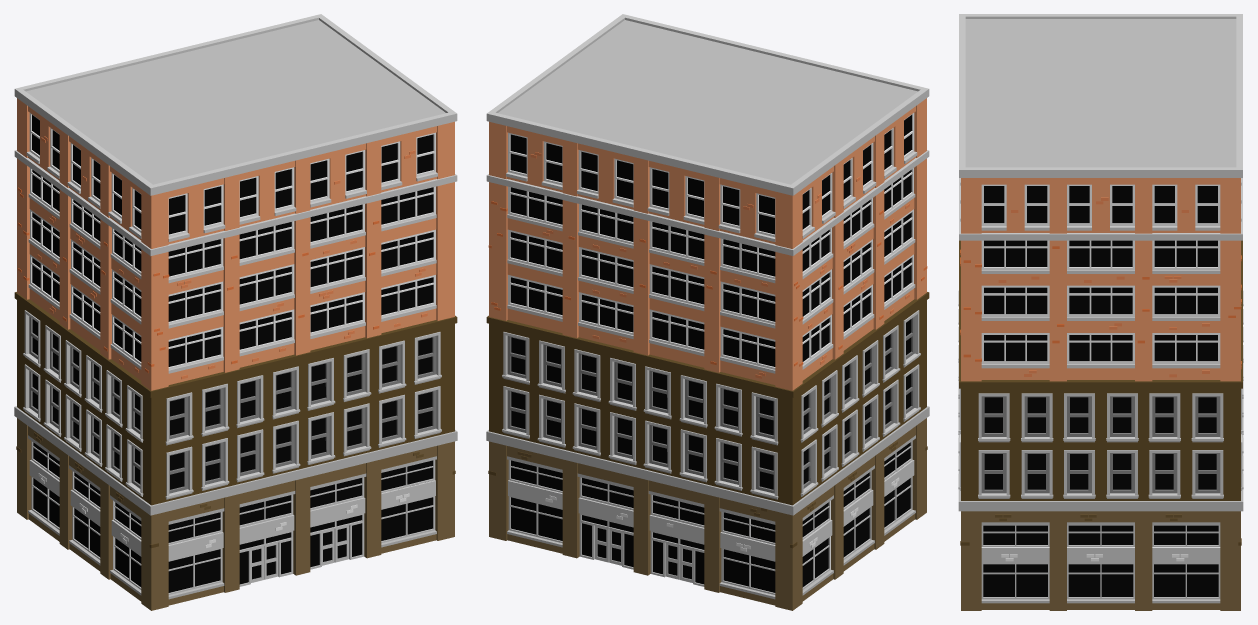
The picture shows the model from 3 angles, left to right: view 1: azimuth 30°, elevation 25°; view 2: azimuth 150°, elevation 25°; view 3: azimuth 270°, elevation 25°; orthographic projection. The views are drawn at different scales.
Parts seen in each view (by area): view 1: Building; view 2: Building; view 3: Building.
Boxes of the visible parts, bbox=[...] form: Building: bbox=[14, 14, 457, 610]; Building: bbox=[486, 14, 929, 610]; Building: bbox=[958, 14, 1243, 610].
Size of what is drawn, in the model's own units: 21.37 by 28.1 by 16.45.
